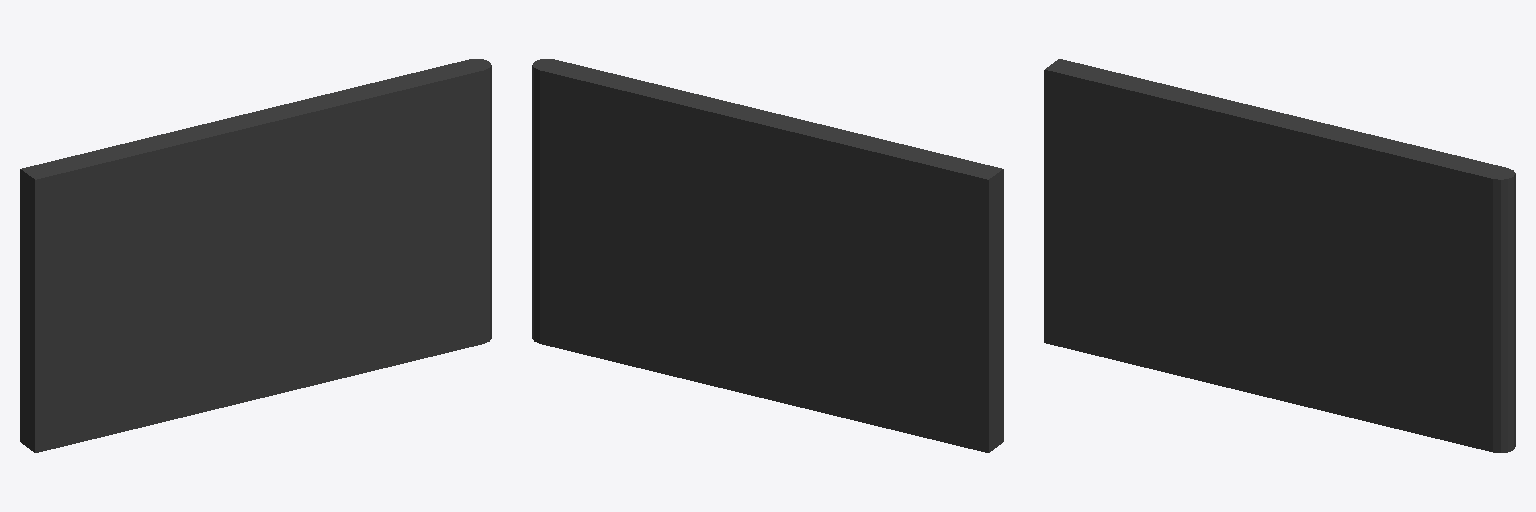
robot.urdf — simulation_assembly:
<?xml version="1.0" encoding="utf-8"?>
<!-- This URDF was automatically created by SolidWorks to URDF Exporter! Originally created by [author] ([email redacted]) 
     Commit Version: 1.5.1-0-g916b5db  Build Version: 1.5.7152.31018
     For more information, please see http://wiki.ros.org/sw_urdf_exporter -->
<robot
  name="simulation_assembly">
  <link
    name="base_link">
    <inertial>
      <origin
        xyz="0 0 0.01515"
        rpy="0 0 0" />
      <mass
        value="0.033918" />
      <inertia
        ixx="1.0837E-05"
        ixy="0"
        ixz="0"
        iyy="5.1389E-06"
        iyz="0"
        izz="1.0786E-05" />
    </inertial>
    <visual>
      <origin
        xyz="0 0 0"
        rpy="0 0 0" />
      <geometry>
        <mesh
          filename="package://simulation_assembly/meshes/base_link.STL" />
      </geometry>
      <material
        name="">
        <color
          rgba="0.29804 0.29804 0.29804 1" />
      </material>
    </visual>
    <collision>
      <origin
        xyz="0 0 0"
        rpy="0 0 0" />
      <geometry>
        <mesh
          filename="package://simulation_assembly/meshes/base_link.STL" />
      </geometry>
    </collision>
  </link>
  <link
    name="arm_left">
    <inertial>
      <origin
        xyz="0.02234 0 0.01515"
        rpy="0 0 0" />
      <mass
        value="0.0039735" />
      <inertia
        ixx="0.0005233"
        ixy="0"
        ixz="-5.7973E-23"
        iyy="1.2406E-06"
        iyz="-1.906E-24"
        izz="9.3957E-07" />
    </inertial>
    <visual>
      <origin
        xyz="0 0 0"
        rpy="0 0 0" />
      <geometry>
        <mesh
          filename="package://simulation_assembly/meshes/arm_left.STL" />
      </geometry>
      <material
        name="">
        <color
          rgba="0.29804 0.29804 0.29804 1" />
      </material>
    </visual>
    <collision>
      <origin
        xyz="0 0 0"
        rpy="0 0 0" />
      <geometry>
        <mesh
          filename="package://simulation_assembly/meshes/arm_left.STL" />
      </geometry>
    </collision>
  </link>
  <joint
    name="servo_left"
    type="continuous">
    <origin
      xyz="-0.0015 0.0212 0.001"
      rpy="0 0 0" />
    <parent
      link="base_link" />
    <child
      link="arm_left" />
    <axis
      xyz="0 0 1" />
  </joint>
  <link
    name="arm_right">
    <inertial>
      <origin
        xyz="0.02234 0 0.01515"
        rpy="0 0 0" />
      <mass
        value="0.0039735" />
      <inertia
        ixx="3.0696E-07"
        ixy="3.9705E-23"
        ixz="1.688E-22"
        iyy="1.2406E-06"
        iyz="1.6997E-23"
        izz="9.3957E-07" />
    </inertial>
    <visual>
      <origin
        xyz="0 0 0"
        rpy="0 0 0" />
      <geometry>
        <mesh
          filename="package://simulation_assembly/meshes/arm_right.STL" />
      </geometry>
      <material
        name="">
        <color
          rgba="0.29804 0.29804 0.29804 1" />
      </material>
    </visual>
    <collision>
      <origin
        xyz="0 0 0"
        rpy="0 0 0" />
      <geometry>
        <mesh
          filename="package://simulation_assembly/meshes/arm_right.STL" />
      </geometry>
    </collision>
  </link>
  <joint
    name="servo_rigth"
    type="revolute">
    <origin
      xyz="-0.0015 -0.0212 0.001"
      rpy="0 0 0" />
    <parent
      link="base_link" />
    <child
      link="arm_right" />
    <axis
      xyz="0 0 1" />
    <limit
      lower="-1.8"
      upper="1.8"
      effort="0.03"
      velocity="6" />
  </joint>
</robot>

--- Render facts (derived) ---
3 views of the same robot in one strip: view 1: azimuth 30°, elevation 25°; view 2: azimuth 150°, elevation 25°; view 3: azimuth 330°, elevation 25° (orthographic).
Robot: simulation_assembly — 3 links, 2 joints (1 revolute, 1 continuous); root link base_link; default pose: every joint at zero.
Visible links, largest first — view 1: arm_right; view 2: arm_right; view 3: arm_right.
Boxes of the visible links, x1,y1,x2,y2 form: arm_right: (20, 59, 491, 452); arm_right: (532, 59, 1003, 452); arm_right: (1044, 59, 1515, 452).
Bounding box of the posed robot: 0.0535 × 0.003 × 0.0303 m (x, y, z).
1 mesh visuals loaded from 3 distinct referenced files (1 binary STL); not drawn: 2 (reference not matched to a file when rendering).